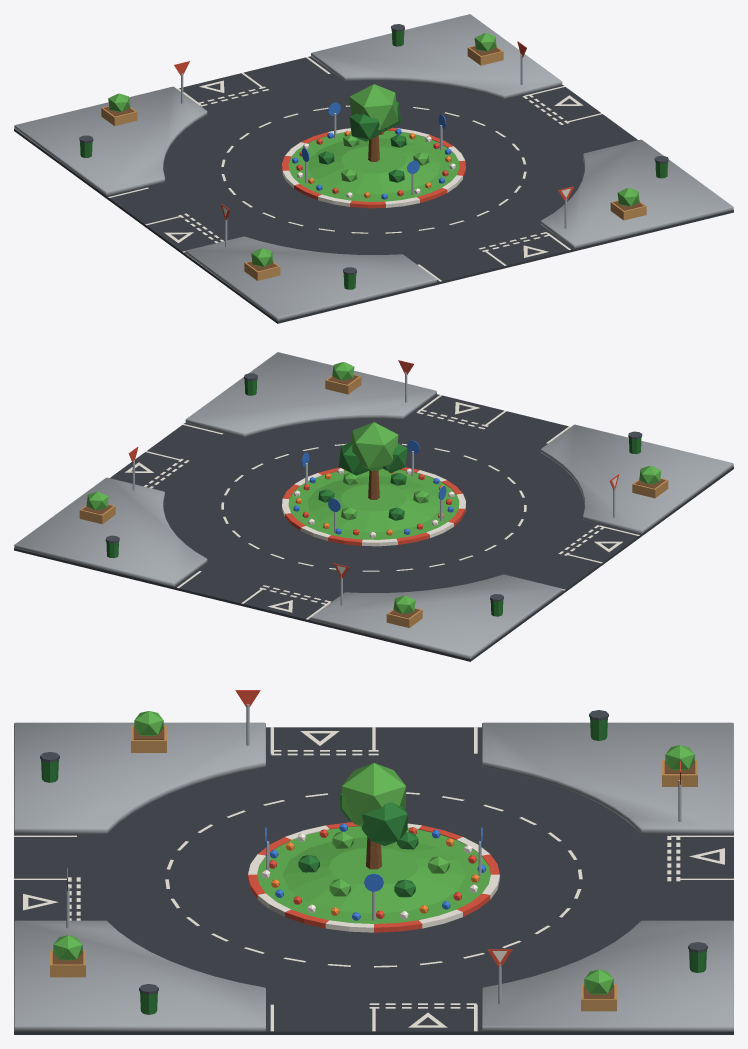
Rendered from town-roundabout-island.glb.
3 renders of one model, top to bottom at view 1: azimuth 30°, elevation 25°; view 2: azimuth 150°, elevation 25°; view 3: azimuth 270°, elevation 25°, orthographic. The views are drawn at different scales.
Visible parts, largest first — view 1: Road_Asphalt, Pavement_1, Pavement_3, Pavement_2, Pavement_4, Island_Mound, Island_Grass, Road_Markings, Island_Kerb, Tree_Canopy_A, Tree_Canopy_C; view 2: Road_Asphalt, Pavement_4, Pavement_2, Pavement_1, Pavement_3, Island_Mound, Island_Grass, Road_Markings, Island_Kerb, Tree_Canopy_A, Tree_Canopy_B; view 3: Road_Asphalt, Pavement_3, Pavement_2, Pavement_4, Pavement_1, Island_Mound, Island_Grass, Road_Markings, Island_Kerb, Tree_Canopy_A, Tree_Canopy_B, Planter_1_Bush (+6 smaller).
Boxes of the visible parts, x1=… form: Road_Asphalt: x1=14, y1=56, x2=733, y2=323; Pavement_1: x1=311, y1=14, x2=562, y2=98; Pavement_3: x1=185, y1=236, x2=436, y2=321; Pavement_2: x1=14, y1=86, x2=207, y2=195; Pavement_4: x1=540, y1=139, x2=733, y2=248; Island_Mound: x1=308, y1=138, x2=440, y2=194; Island_Grass: x1=288, y1=130, x2=459, y2=201; Road_Markings: x1=108, y1=57, x2=602, y2=281; Island_Kerb: x1=282, y1=127, x2=465, y2=208; Tree_Canopy_A: x1=349, y1=84, x2=398, y2=130; Tree_Canopy_C: x1=349, y1=113, x2=382, y2=141; Road_Asphalt: x1=14, y1=394, x2=733, y2=661; Pavement_4: x1=185, y1=352, x2=436, y2=436; Pavement_2: x1=311, y1=574, x2=562, y2=659; Pavement_1: x1=14, y1=477, x2=207, y2=586; Pavement_3: x1=540, y1=424, x2=733, y2=533; Island_Mound: x1=307, y1=476, x2=439, y2=532; Island_Grass: x1=288, y1=468, x2=459, y2=539; Road_Markings: x1=125, y1=395, x2=639, y2=619; Island_Kerb: x1=282, y1=467, x2=465, y2=546; Tree_Canopy_A: x1=351, y1=422, x2=398, y2=471; Tree_Canopy_B: x1=339, y1=442, x2=370, y2=475; Road_Asphalt: x1=14, y1=727, x2=733, y2=1034; Pavement_3: x1=14, y1=722, x2=265, y2=833; Pavement_2: x1=482, y1=722, x2=733, y2=833; Pavement_4: x1=14, y1=920, x2=265, y2=1031; Pavement_1: x1=482, y1=920, x2=733, y2=1031; Island_Mound: x1=282, y1=837, x2=465, y2=913; Island_Grass: x1=257, y1=826, x2=490, y2=923; Road_Markings: x1=14, y1=727, x2=733, y2=1031; Island_Kerb: x1=248, y1=822, x2=499, y2=932; Tree_Canopy_A: x1=342, y1=763, x2=405, y2=826; Tree_Canopy_B: x1=361, y1=802, x2=407, y2=845; Planter_1_Bush: x1=584, y1=969, x2=613, y2=994.
Size of the model in its own units: 80 by 14.7 by 80.
